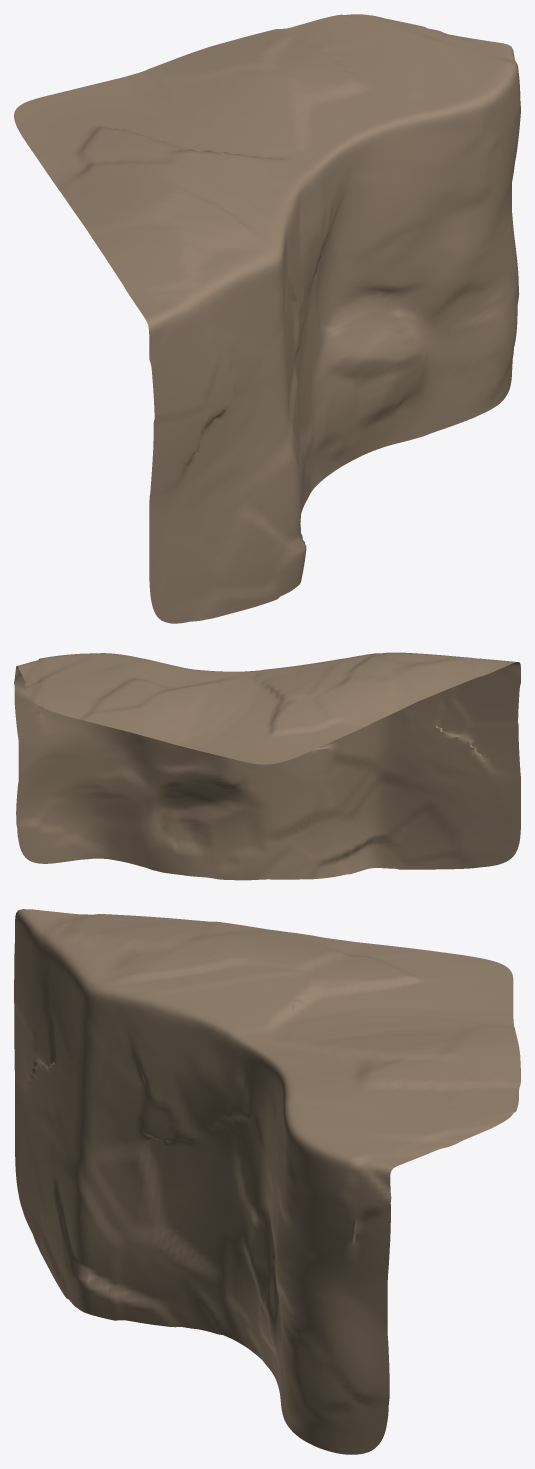
Rendered from terrace_high L.fbx.
The picture shows the model from 3 angles, top to bottom: view 1: azimuth 30°, elevation 25°; view 2: azimuth 150°, elevation 25°; view 3: azimuth 270°, elevation 25°; orthographic projection. The views are drawn at different scales.
Parts seen in each view (by area): view 1: terrace_high L; view 2: terrace_high L; view 3: terrace_high L.
Part boxes in pixels (bbox=[...]): terrace_high L: bbox=[14, 14, 520, 623]; terrace_high L: bbox=[14, 652, 520, 880]; terrace_high L: bbox=[14, 909, 520, 1454].
Bounding box in the file's own units: 15.01 × 8.89 × 12.21.
